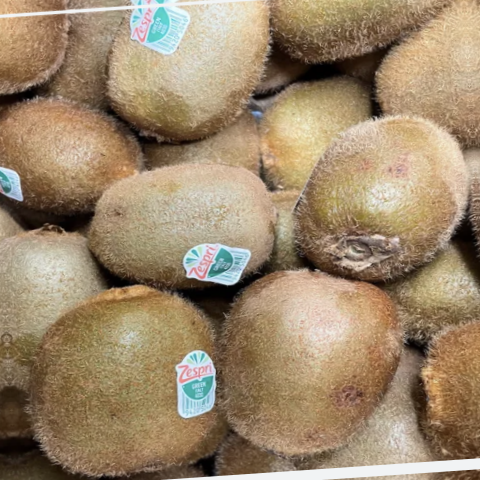kiwi: (190, 244, 413, 465), (19, 263, 246, 480), (292, 83, 478, 320), (77, 136, 302, 302), (79, 0, 284, 148)
